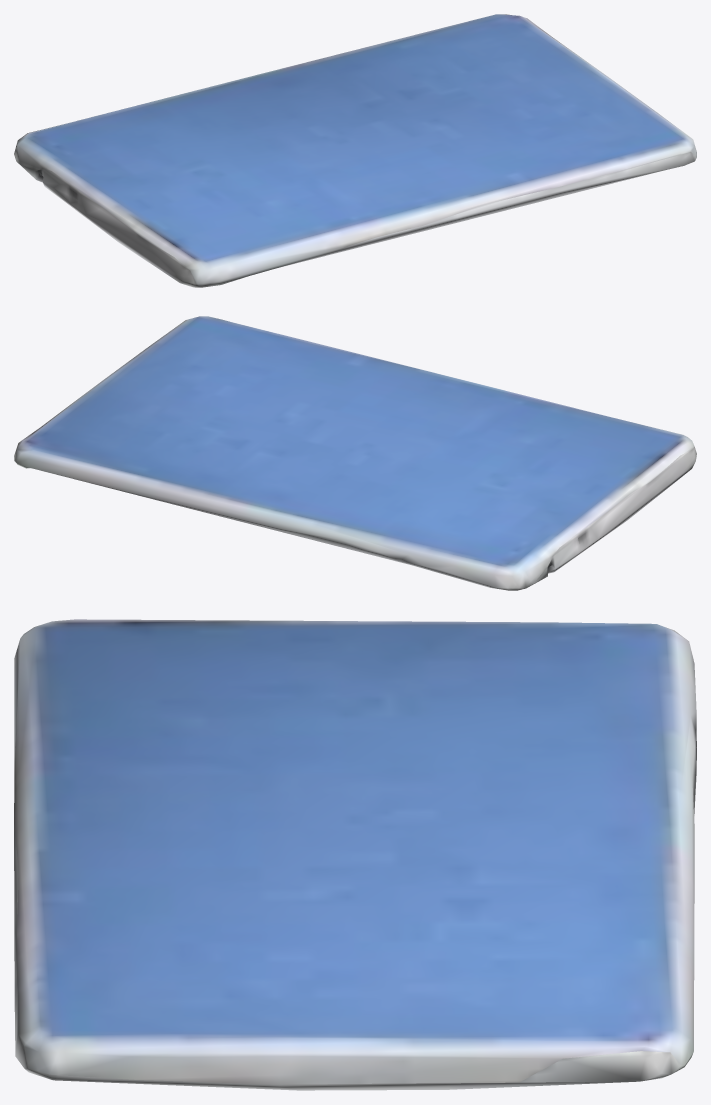
Rendered from HP_1800_Tablet_8GB_7-medium.glb.
3 renders of one model, top to bottom at view 1: azimuth 30°, elevation 25°; view 2: azimuth 150°, elevation 25°; view 3: azimuth 270°, elevation 25°, orthographic. The views are drawn at different scales.
Visible parts, largest first — view 1: HP_1800_Tablet_8GB_7; view 2: HP_1800_Tablet_8GB_7; view 3: HP_1800_Tablet_8GB_7.
Part boxes in pixels (left/top/right/bottom): HP_1800_Tablet_8GB_7: left=14, top=14, right=696, bottom=287; HP_1800_Tablet_8GB_7: left=14, top=316, right=696, bottom=590; HP_1800_Tablet_8GB_7: left=14, top=619, right=696, bottom=1090.
Bounding box in the file's own units: 0.1933 × 0.0131 × 0.1257.
1 material, 1 textured.
